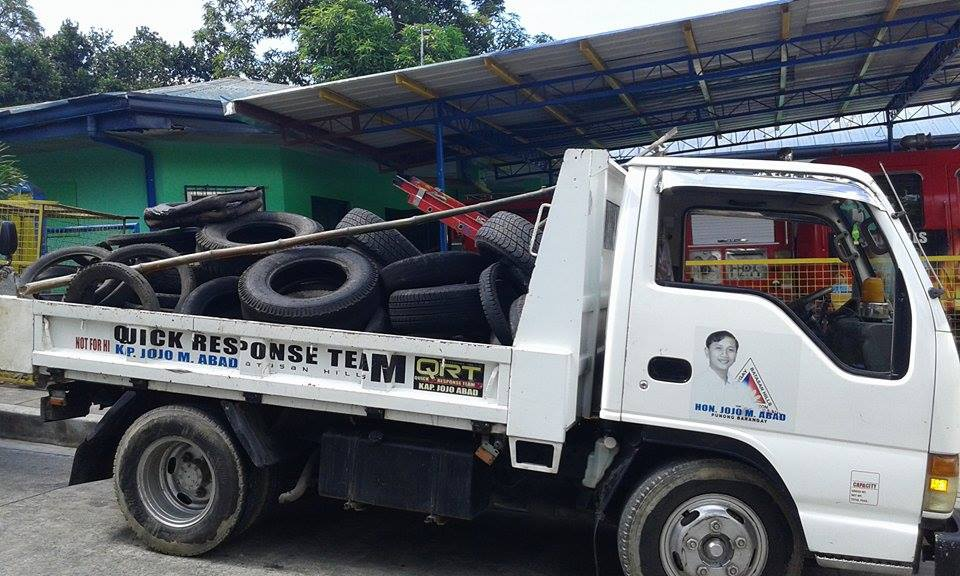tire: (107, 395, 262, 561), (612, 448, 810, 576), (236, 238, 393, 325), (199, 207, 331, 274), (470, 207, 557, 307), (385, 281, 525, 336), (63, 259, 159, 325), (146, 184, 272, 231)
